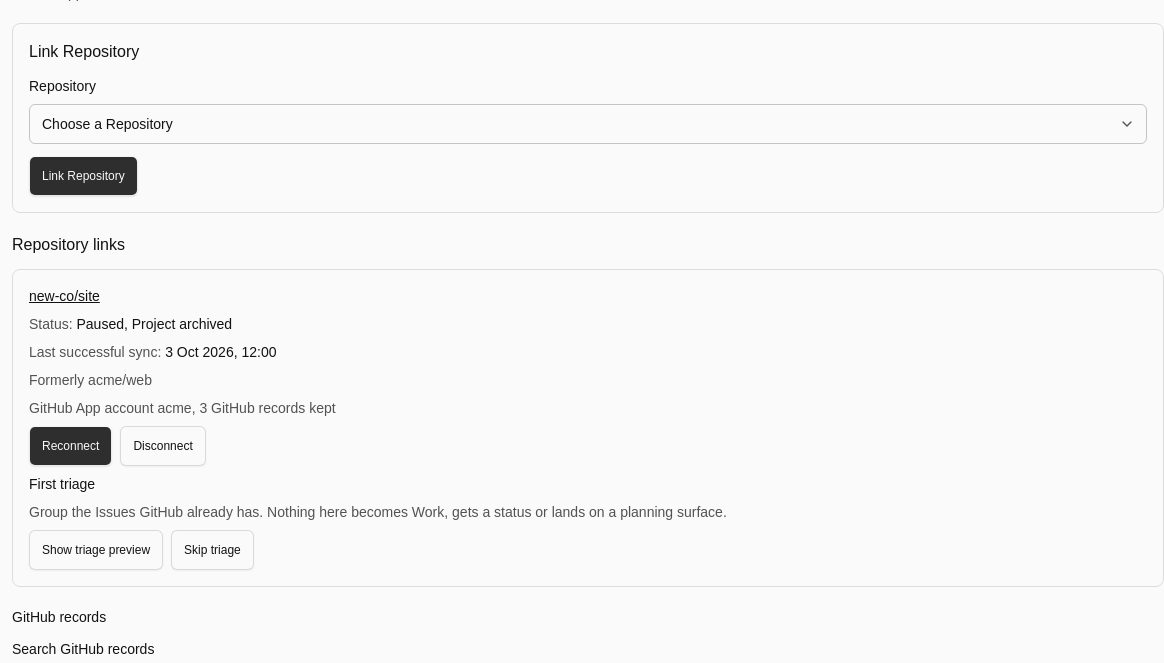
the Reconnect preview takes focus and can be cancelled from the keyboard
(page scrolled)
Click the button "Reconnect". click: (71,446)
box: [29,426,112,466]
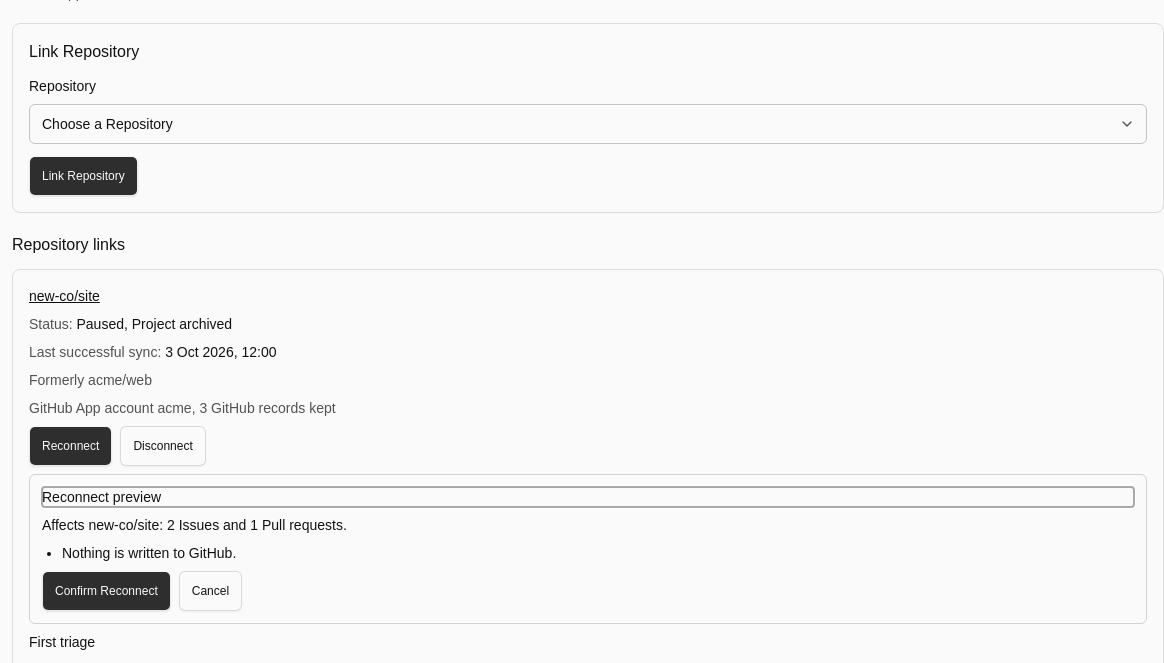
Check: the heading "Reconnect preview" is shown, box [42,489,161,505]
Click the button "Cancel". click: (210,591)
box: [179,571,242,611]
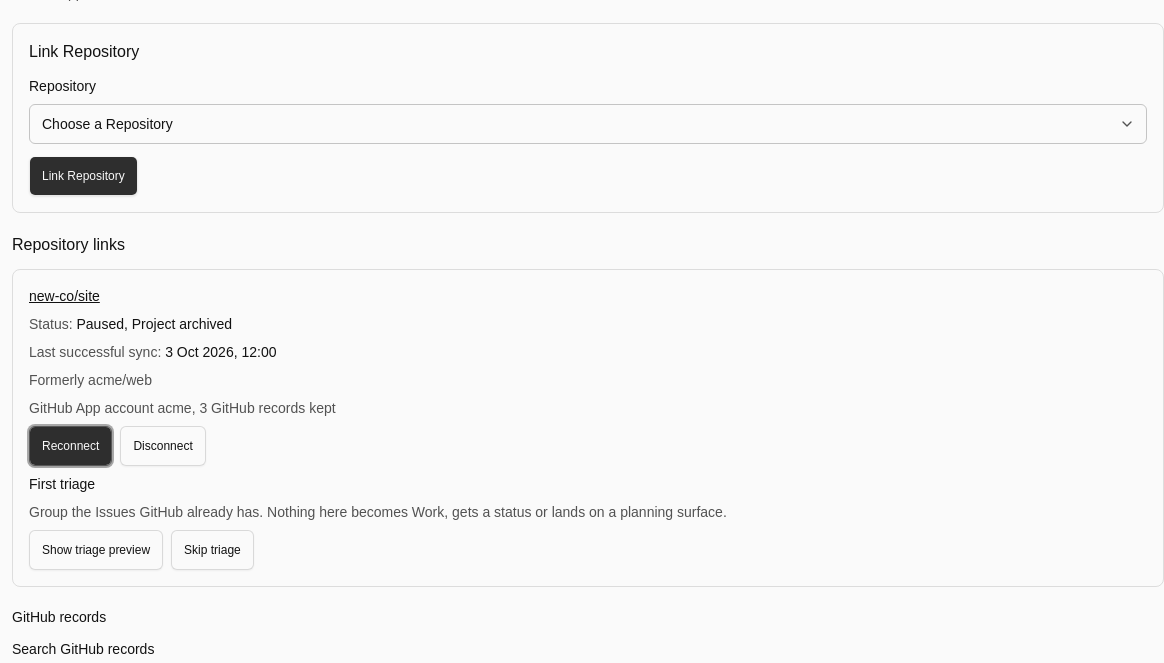
Check: the heading "Reconnect preview" is gone
